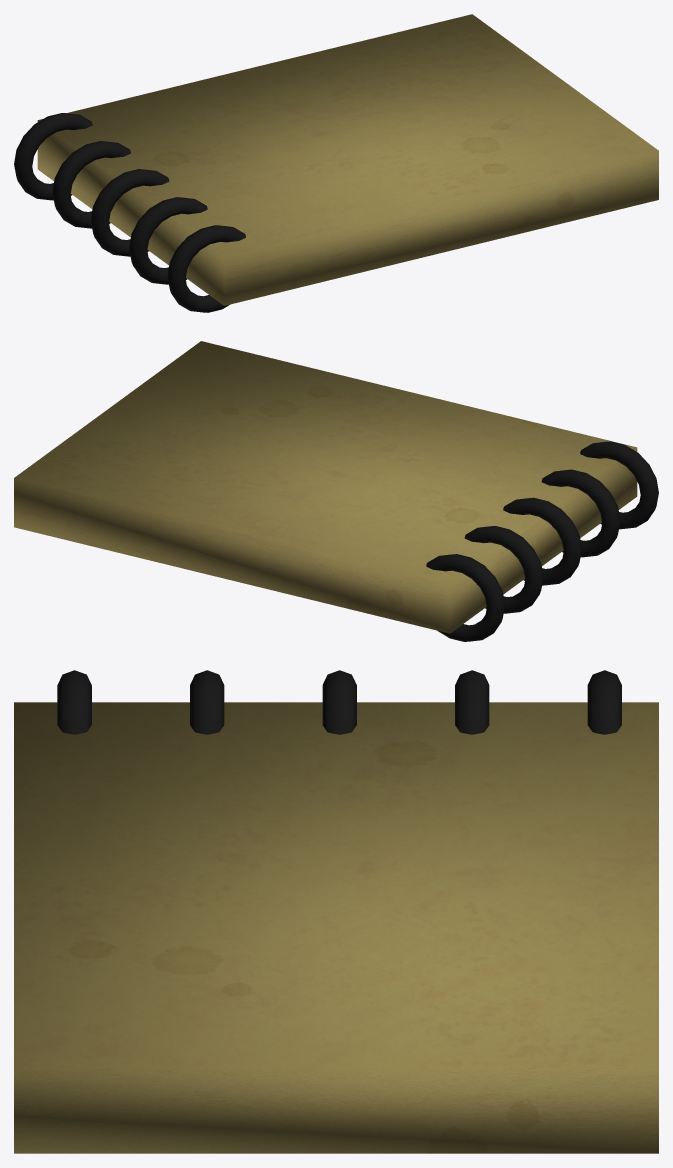
File: notebook.glb
3 views of the same model, one above another, from view 1: azimuth 30°, elevation 25°; view 2: azimuth 150°, elevation 25°; view 3: azimuth 270°, elevation 25° (orthographic). The views are drawn at different scales.
Visible parts, largest first — view 1: NotebookMesh; view 2: NotebookMesh; view 3: NotebookMesh.
Boxes of the visible parts, x1,y1,x2,y2 form: NotebookMesh: [14, 14, 658, 312]; NotebookMesh: [14, 341, 658, 641]; NotebookMesh: [14, 670, 658, 1153].
Size of the model in its own units: 0.1958 by 0.0331 by 0.1338.
Materials: 2 (2 with a texture image).
